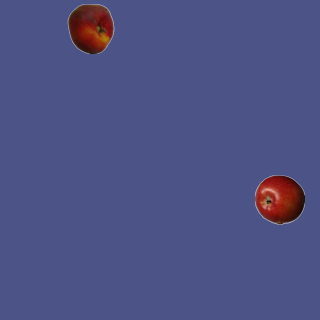Apple Braeburn: (254, 174, 304, 224)
Nectarine Flat: (65, 3, 115, 53)
